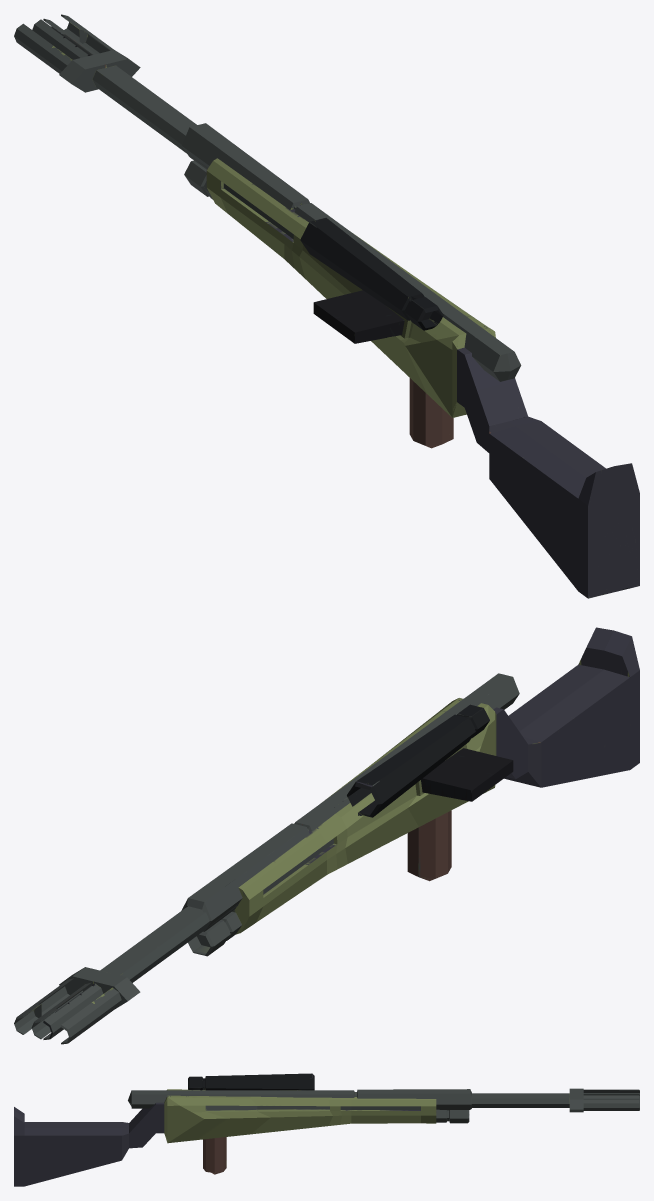
Rendered from arma.fbx.
3 renders of one model, top to bottom at view 1: azimuth 30°, elevation 25°; view 2: azimuth 150°, elevation 25°; view 3: azimuth 270°, elevation 25°, orthographic. The views are drawn at different scales.
Visible parts, largest first — view 1: Cube.005; view 2: Cube.005; view 3: Cube.005.
Part boxes in pixels (left/top/right/bottom): Cube.005: left=14, top=14, right=639, bottom=598; Cube.005: left=14, top=627, right=639, bottom=1044; Cube.005: left=14, top=1073, right=639, bottom=1186.
Size of the model in its own units: 535 by 801 by 4650.
1 material, 1 textured.
